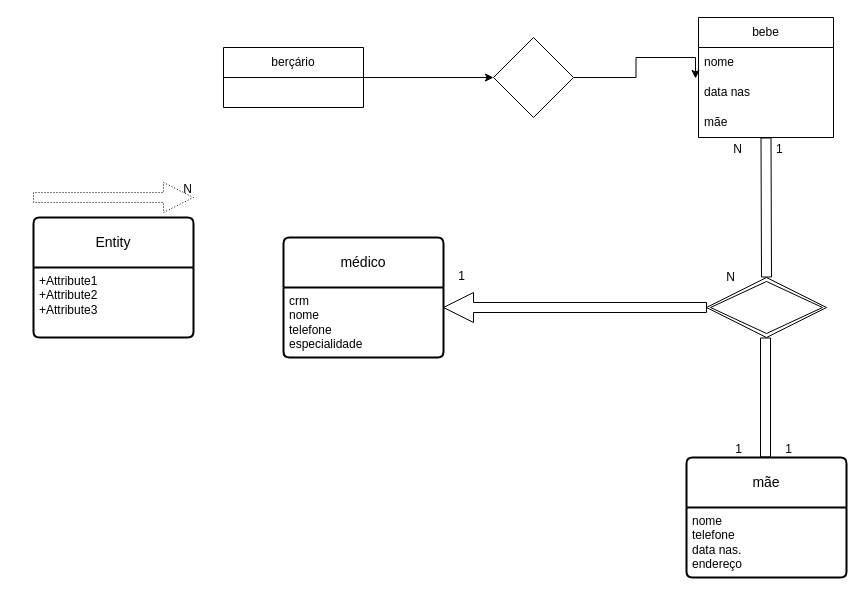
The diagram is 865 pixels wide and 596 high, and some of its shapes have lost their labels. The centre of each missing label's shape, as x and y in pixels:
tem: the point at 766,307
ter: the point at 533,77
